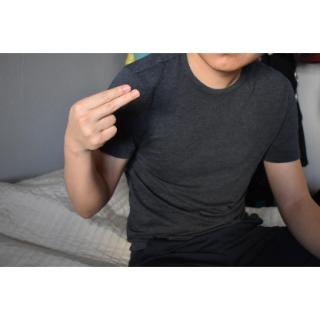AYN: (63, 82, 144, 155)
